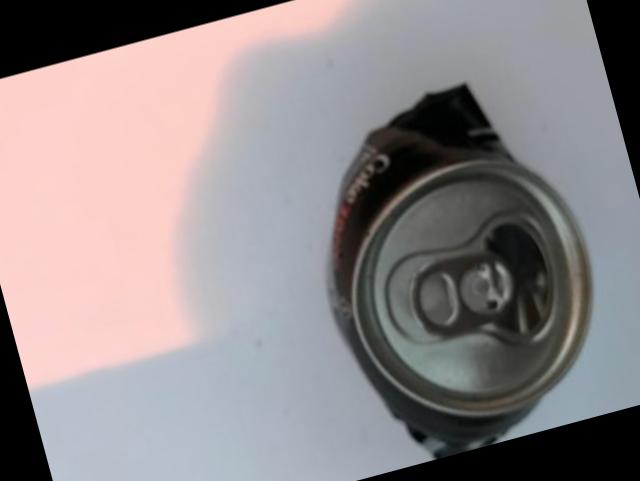metal: (327, 83, 589, 456)
